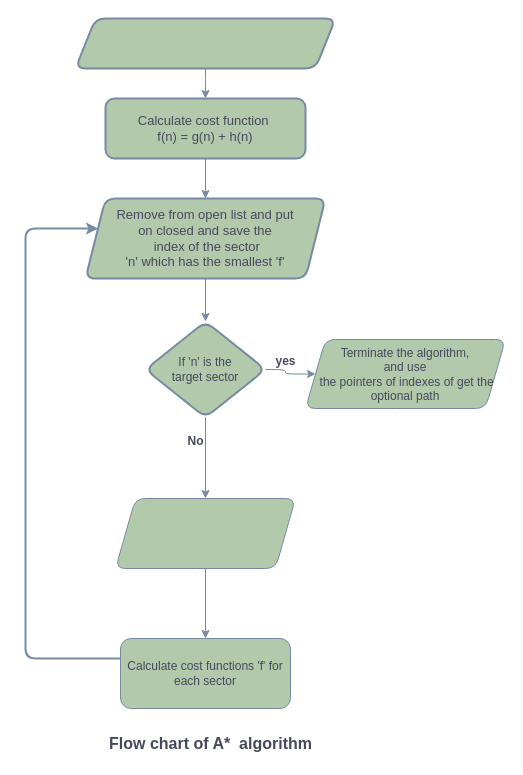
Image size: 523x775. Some labels were removed from this diagram. Each missing label, with the centre of its shape:
"Detect all the seccessor sectors of 'n' which not exist onn closed list" goes at point 205,533.
"Intial start sector 'n' and put it on open list" goes at point 205,43.
